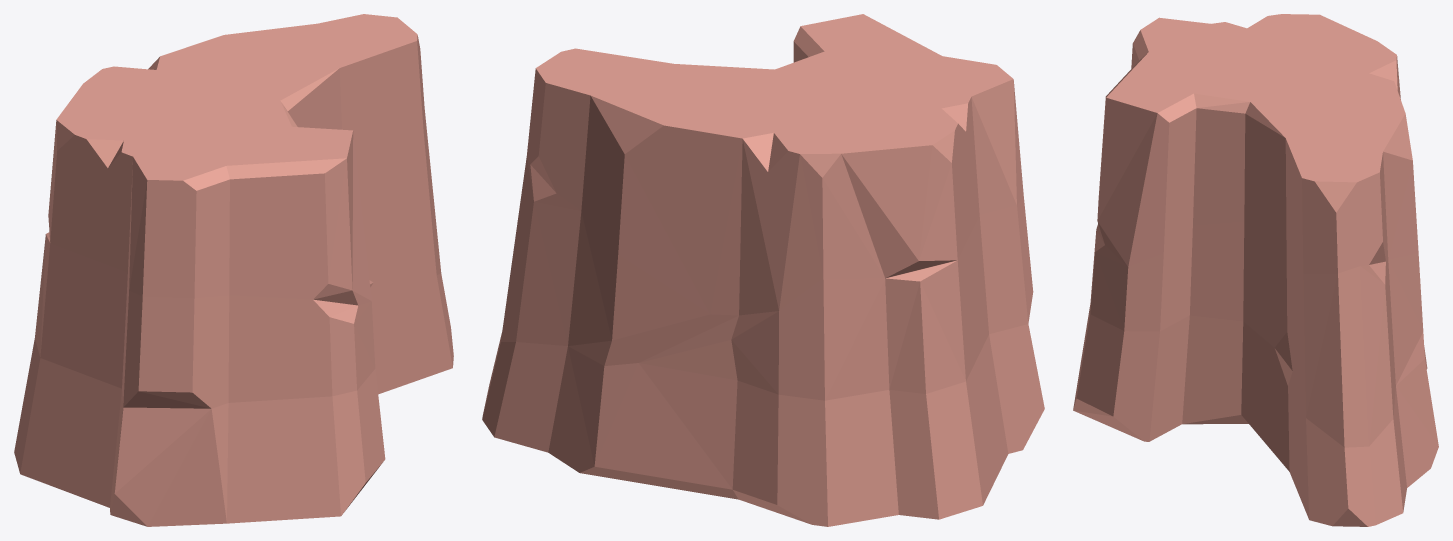
Rendered from Plane_035_Vlad.fbx.
3 views of the same model, side by side, from view 1: azimuth 30°, elevation 25°; view 2: azimuth 150°, elevation 25°; view 3: azimuth 270°, elevation 25° (orthographic). The views are drawn at different scales.
Visible parts, largest first — view 1: Plane.035; view 2: Plane.035; view 3: Plane.035.
Boxes of the visible parts, x1,y1,x2,y2 form: Plane.035: (14,14,453,526); Plane.035: (482,14,1044,526); Plane.035: (1073,14,1438,526).
Size of the model in its own units: 974 by 700 by 717.
